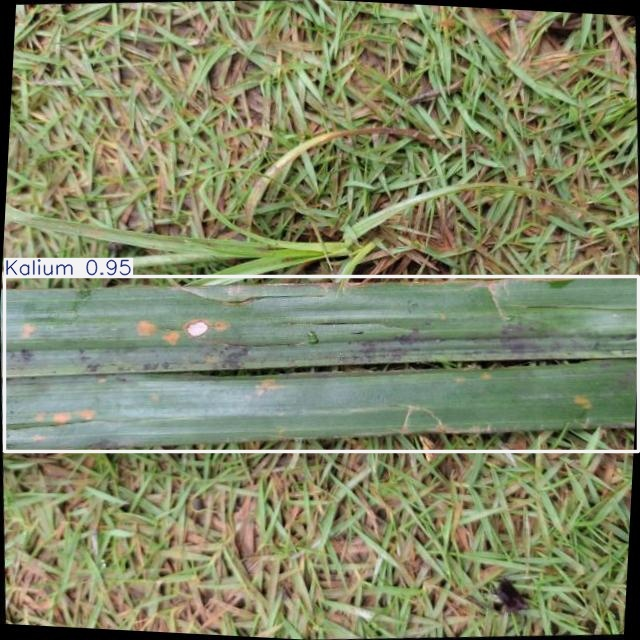Kalium: (5, 276, 639, 451)
